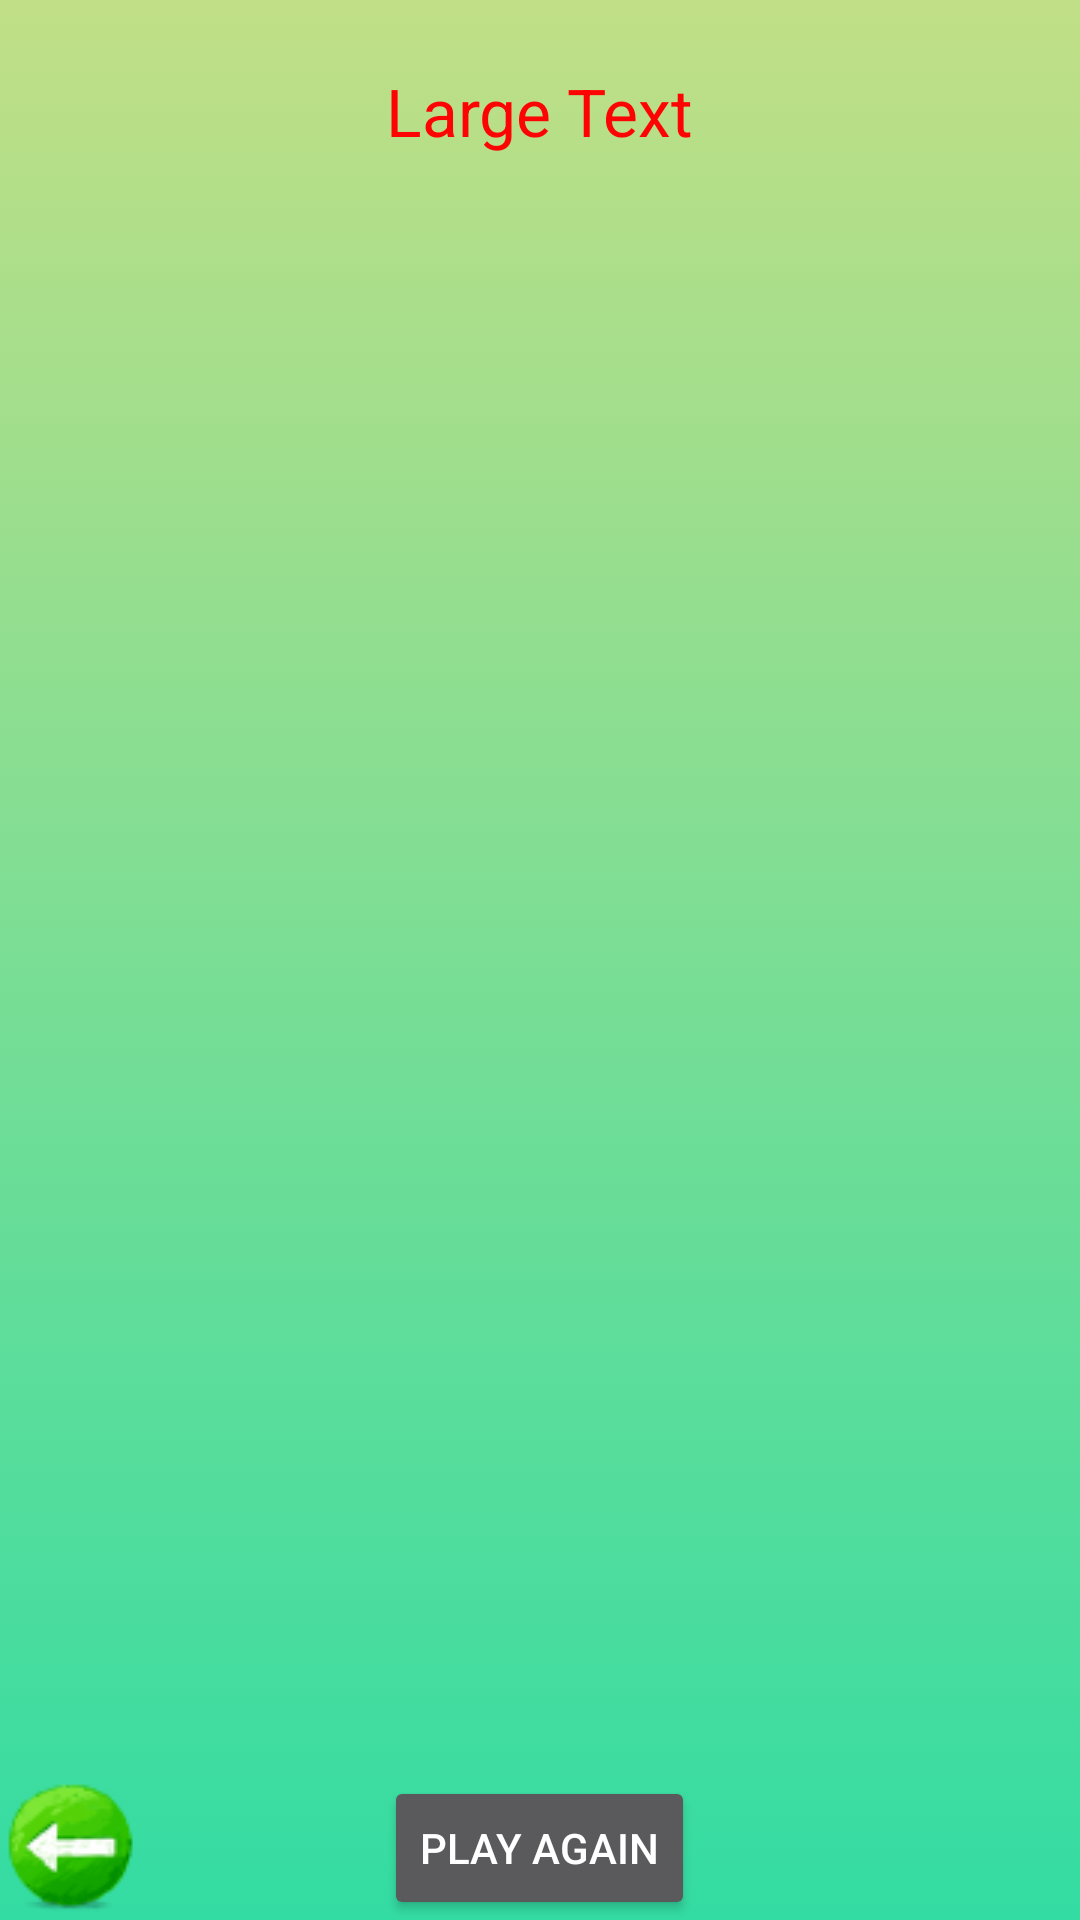

Where to tap for icons on this 1080×1920 app screen, as point (x, y):
back kn: point (70, 1846)
